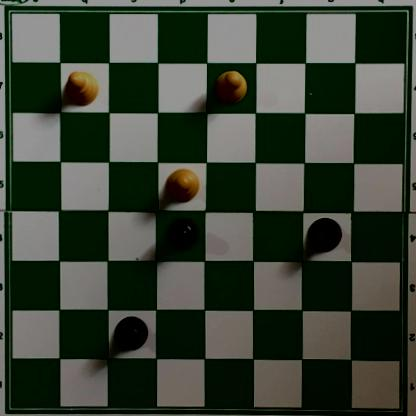black-pawn: (307, 216, 343, 255), (163, 217, 200, 253), (114, 315, 149, 353)
white-pawn: (164, 167, 200, 203), (63, 70, 98, 106), (213, 70, 248, 104)
